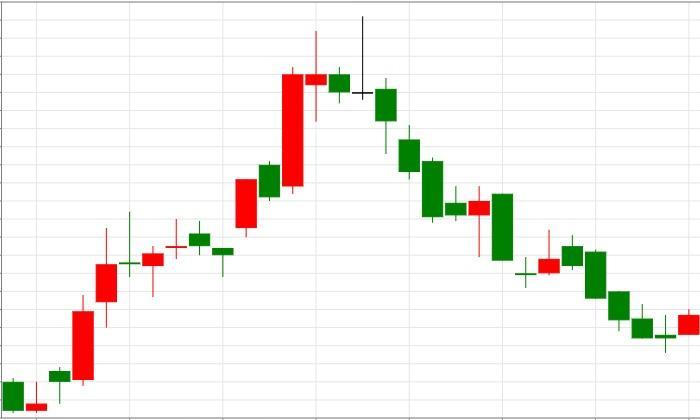morning_star_rise: (562, 235, 699, 353)
